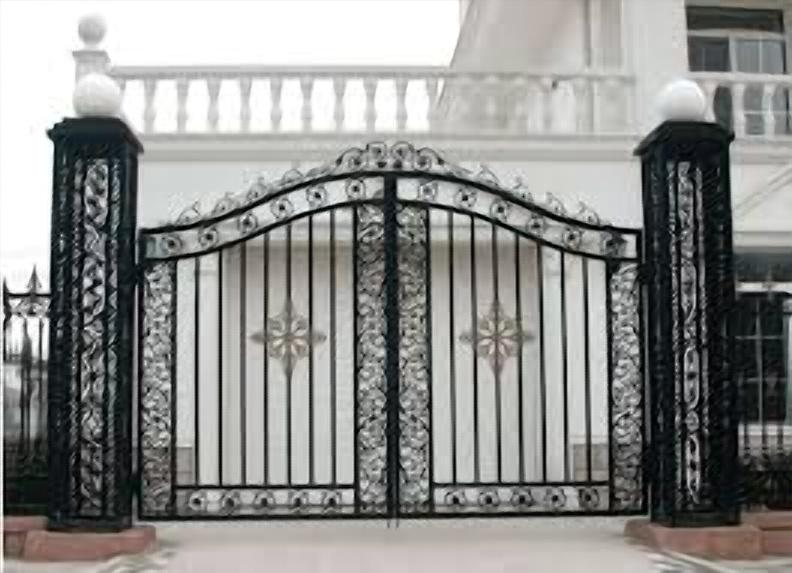Building: (65, 0, 792, 501)
Gate: (136, 141, 655, 529)
Window-without-grill: (686, 6, 792, 133), (740, 251, 792, 423)
